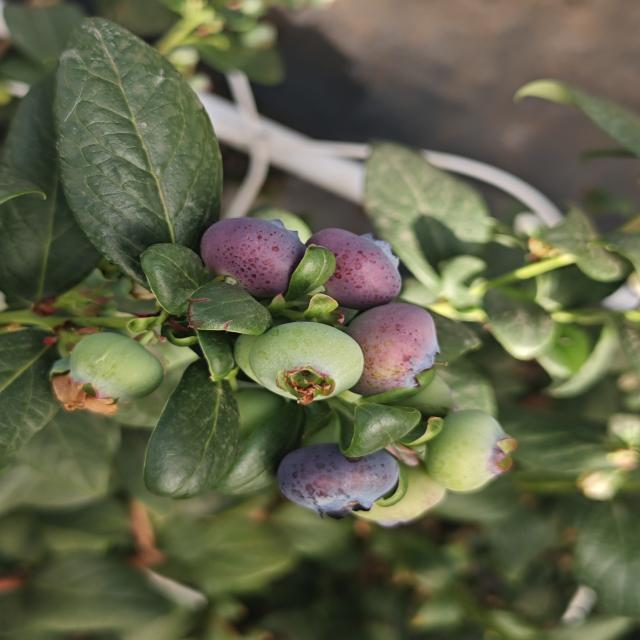ripe: (270, 432, 412, 524)
